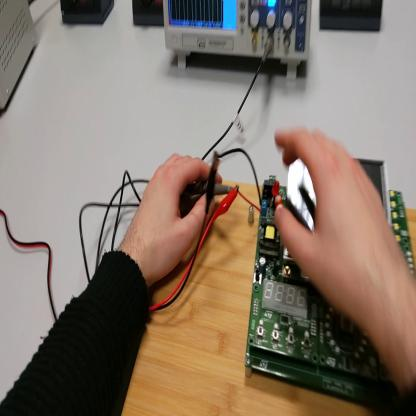hand: (275, 124, 403, 340), (126, 154, 222, 283)
oscilloscope: (164, 2, 314, 80)
oscilloscope probe tip: (180, 185, 233, 200)
power supply: (1, 1, 39, 111)
socket: (61, 2, 116, 26), (133, 1, 165, 29)
working area: (121, 180, 416, 415)
